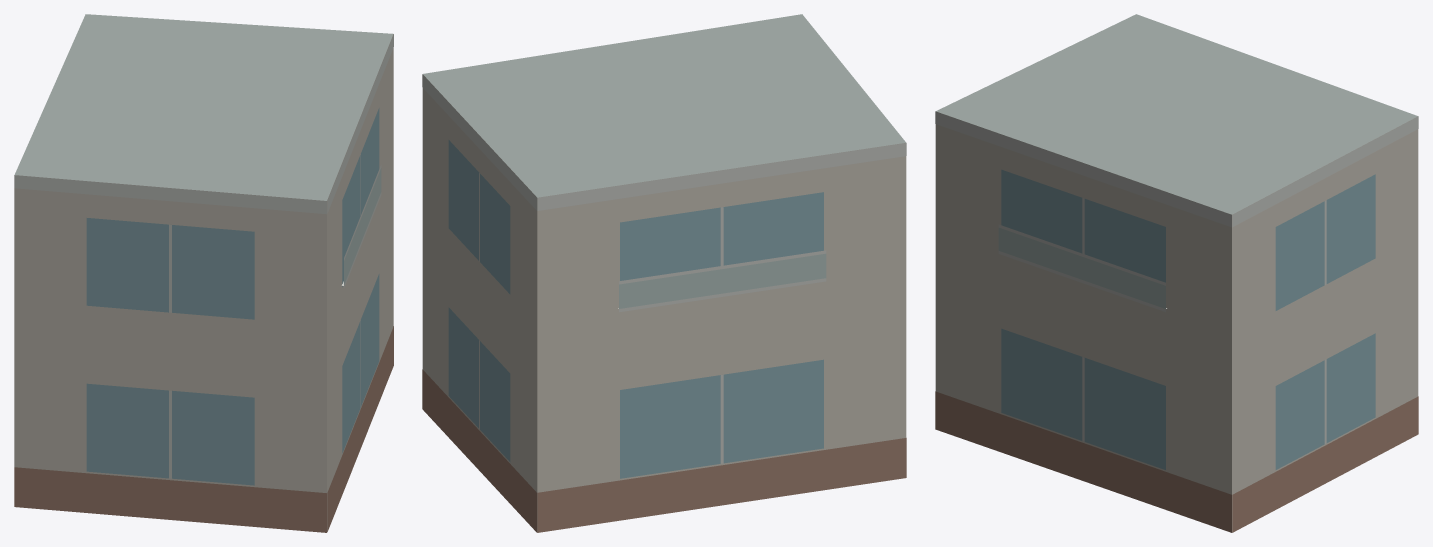
The model's file is survey-upis-32818184.glb.
3 renders of one model, left to right at view 1: azimuth 30°, elevation 25°; view 2: azimuth 150°, elevation 25°; view 3: azimuth 270°, elevation 25°, orthographic. The views are drawn at different scales.
Parts seen in each view (by area): view 1: survey-upis-32818184.tmp; view 2: survey-upis-32818184.tmp; view 3: survey-upis-32818184.tmp.
Part boxes in pixels (x1,y1,x2,y2): survey-upis-32818184.tmp: (14,14,393,532); survey-upis-32818184.tmp: (422,14,906,532); survey-upis-32818184.tmp: (935,14,1418,532).
Size of the model in its own units: 8.26 by 6.1 by 8.4.
